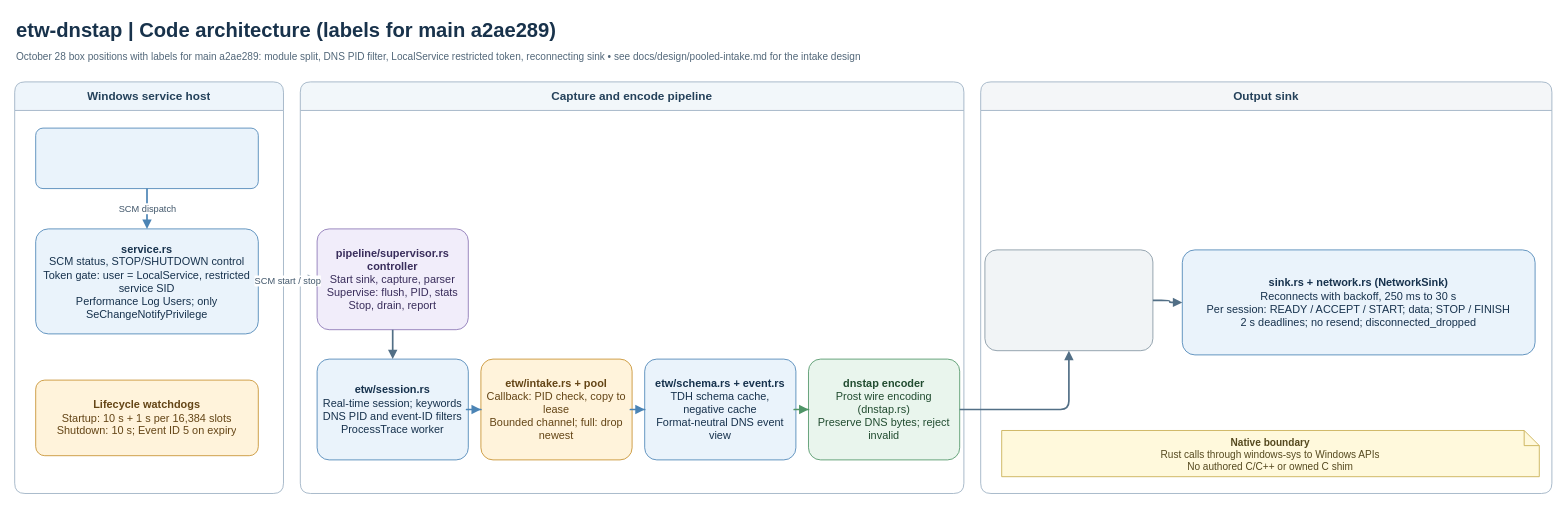
Image size: 1567x508. Some labels were removed from this diagram. Here are the shapes that lost their labels. From the top down, the centre of each, then its label:
At (146,158): "main.rs + lib.rs Parse configuration; enter SCM dispatcher Service-only runtime".
At (1068,300): "framestream.rs Content type + data frames".
